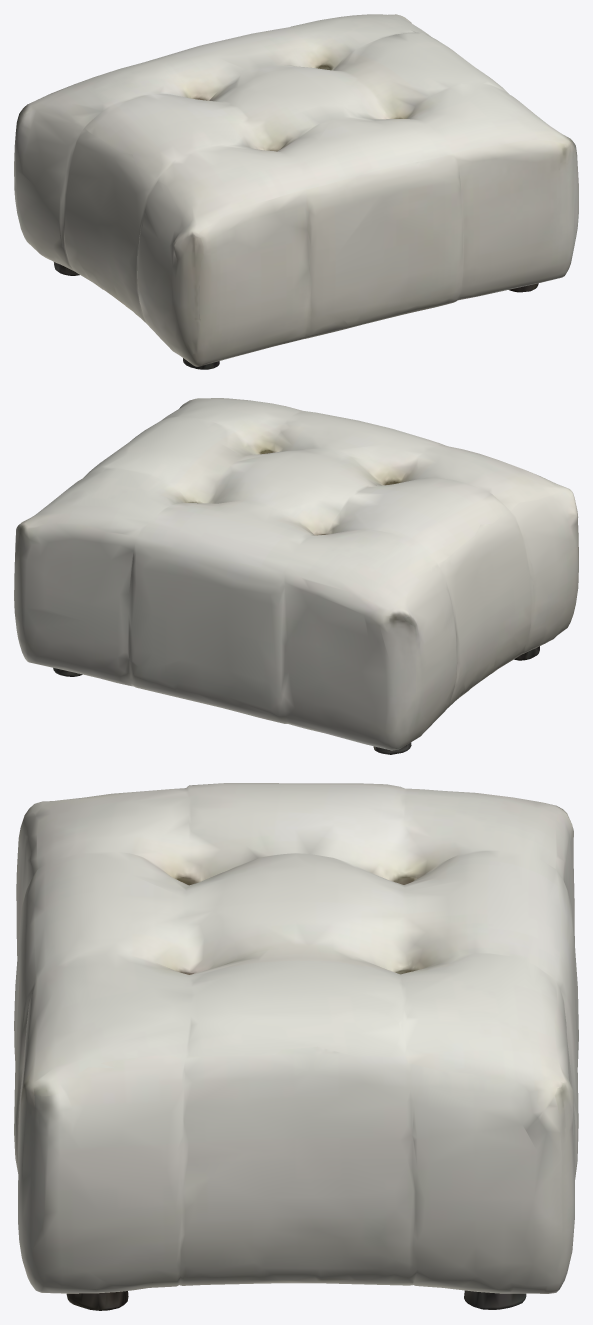
3 renders of one model, top to bottom at view 1: azimuth 30°, elevation 25°; view 2: azimuth 150°, elevation 25°; view 3: azimuth 270°, elevation 25°, orthographic. The views are drawn at different scales.
Visible parts, largest first — view 1: geometry_0; view 2: geometry_0; view 3: geometry_0.
Boxes of the visible parts, box(x1,y1,x2,y2) form: geometry_0: box(14, 14, 578, 369); geometry_0: box(14, 398, 578, 754); geometry_0: box(14, 783, 578, 1310).
Size of the model in its own units: 0.997 by 0.4536 by 0.7851.
Materials: 1 (1 with a texture image).
